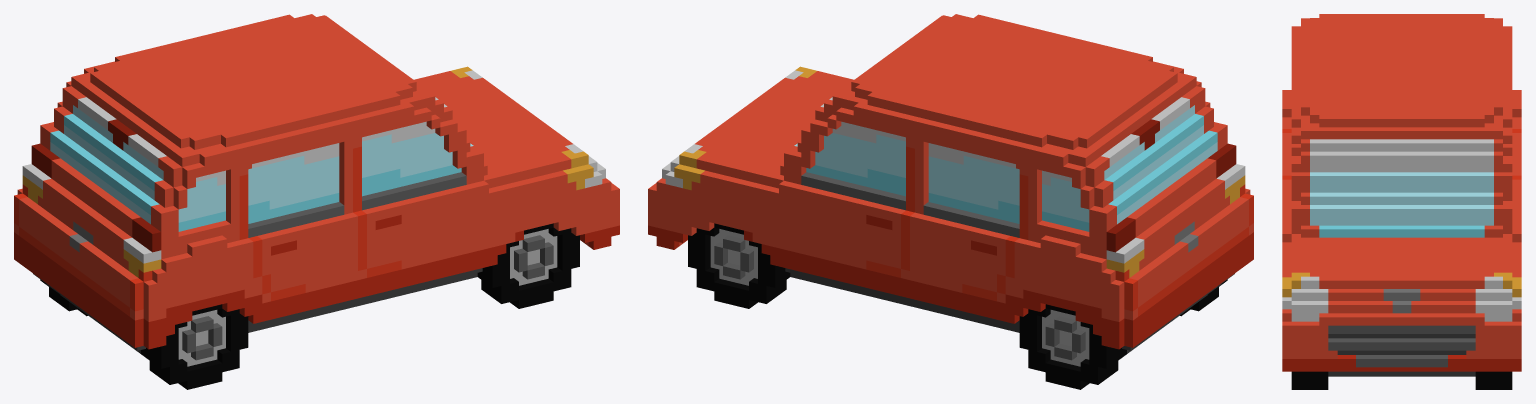
Rendered from car.obj.
3 views of the same model, side by side, from view 1: azimuth 30°, elevation 25°; view 2: azimuth 150°, elevation 25°; view 3: azimuth 270°, elevation 25° (orthographic). The views are drawn at different scales.
Bounding box in the file's own units: 5.5 × 2.6 × 2.6.
1 material, 1 textured.
